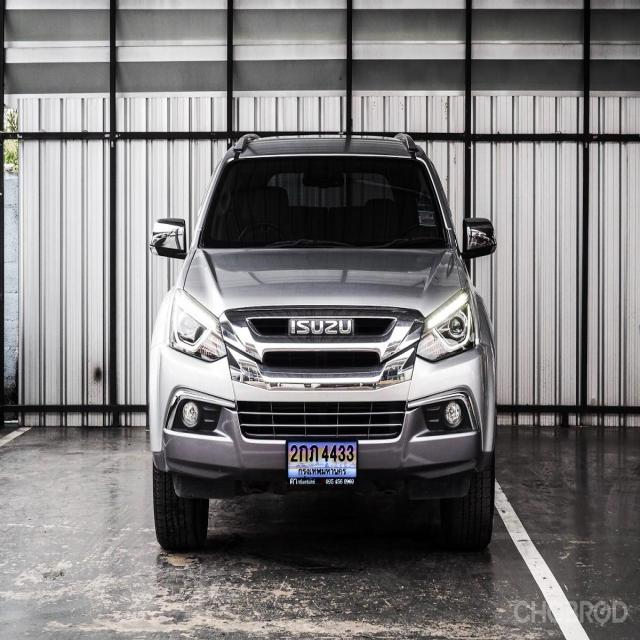license_plate: (282, 431, 363, 493)
